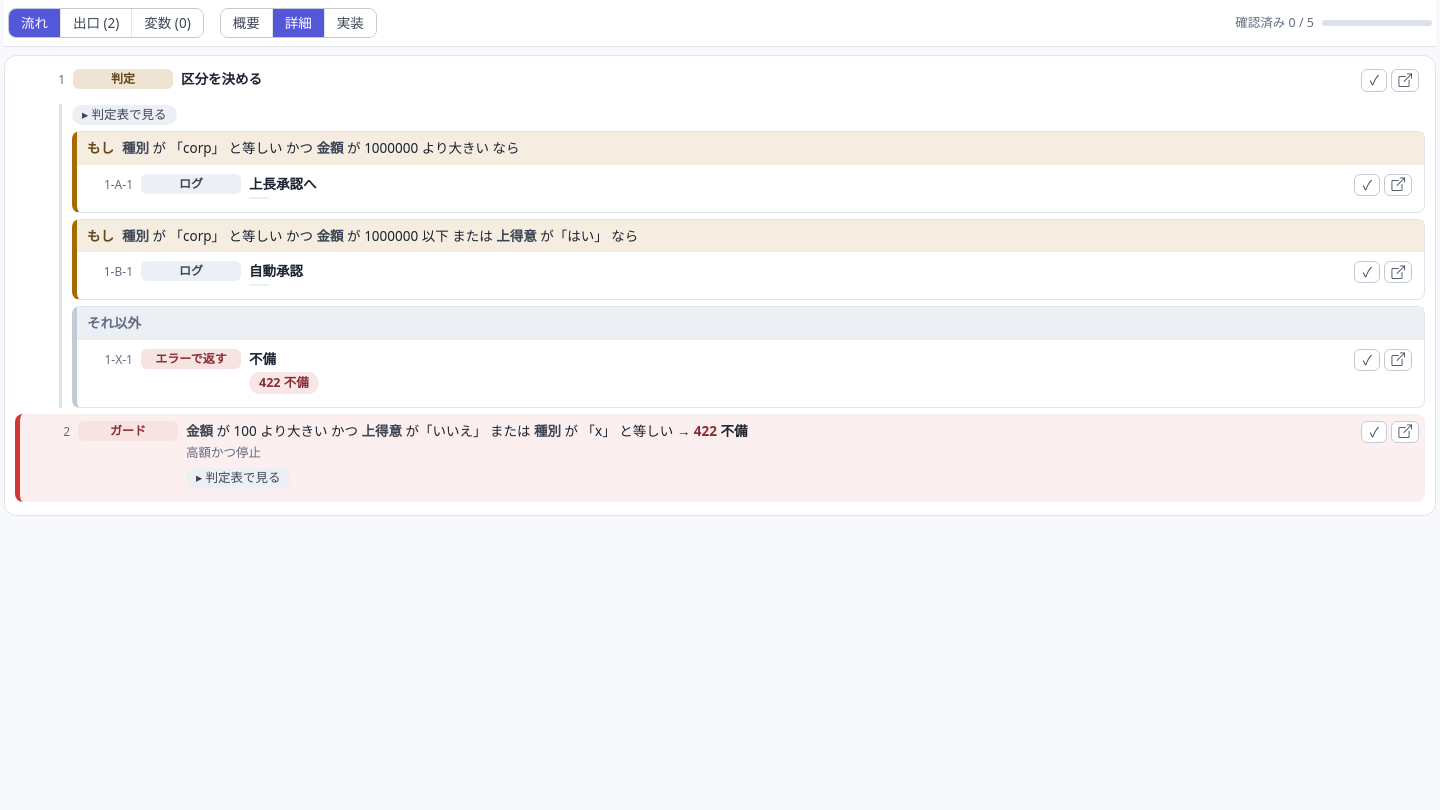
Scenario: 判定表 › 複合条件のガードにも、判定表が出る
Click the button with test id "pfs-dt-toggle" below "が「いいえ」".
click(238, 478)  # box [186,468,290,489]
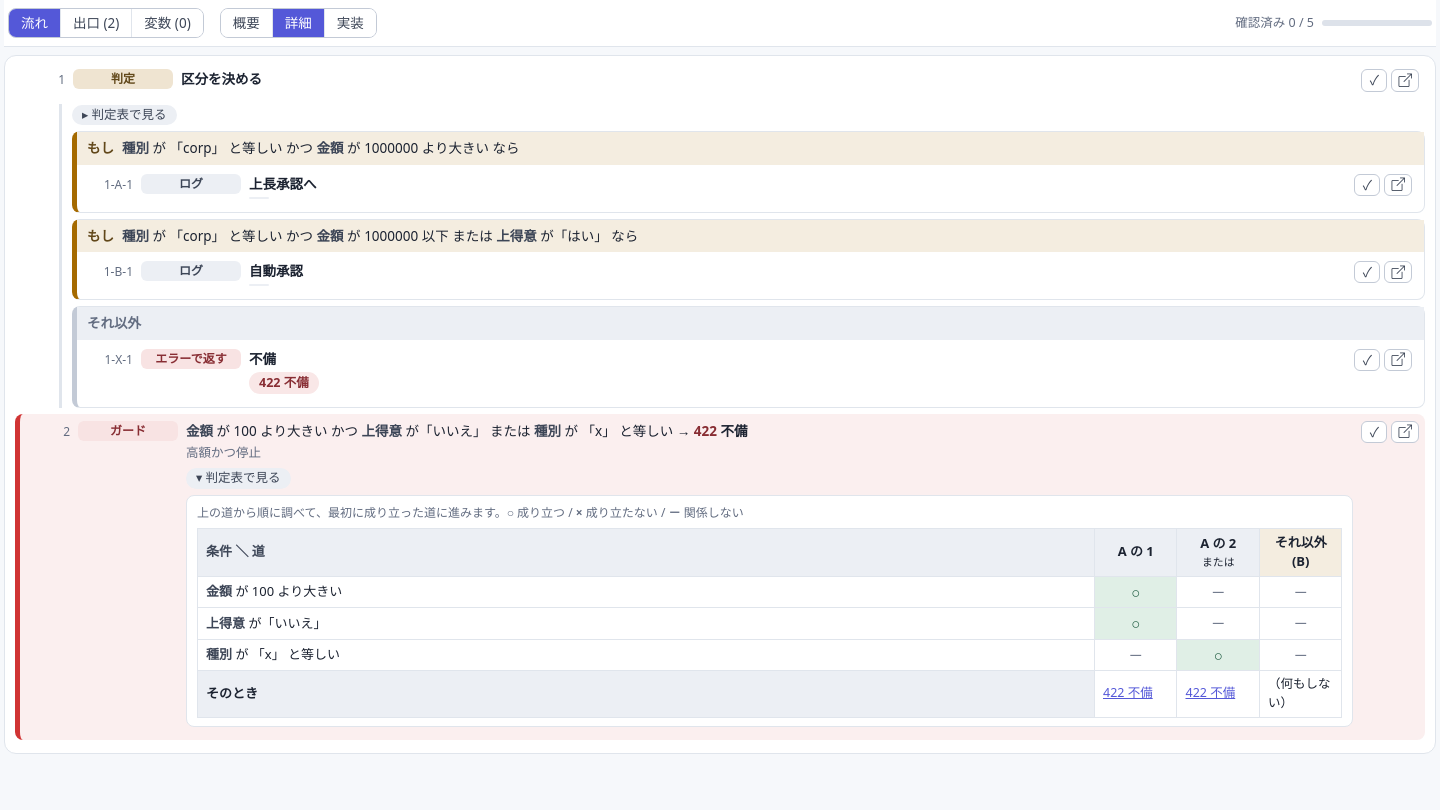
expect the text "それ以外 (B)" is shown: met, box [1275,532,1327,570]
